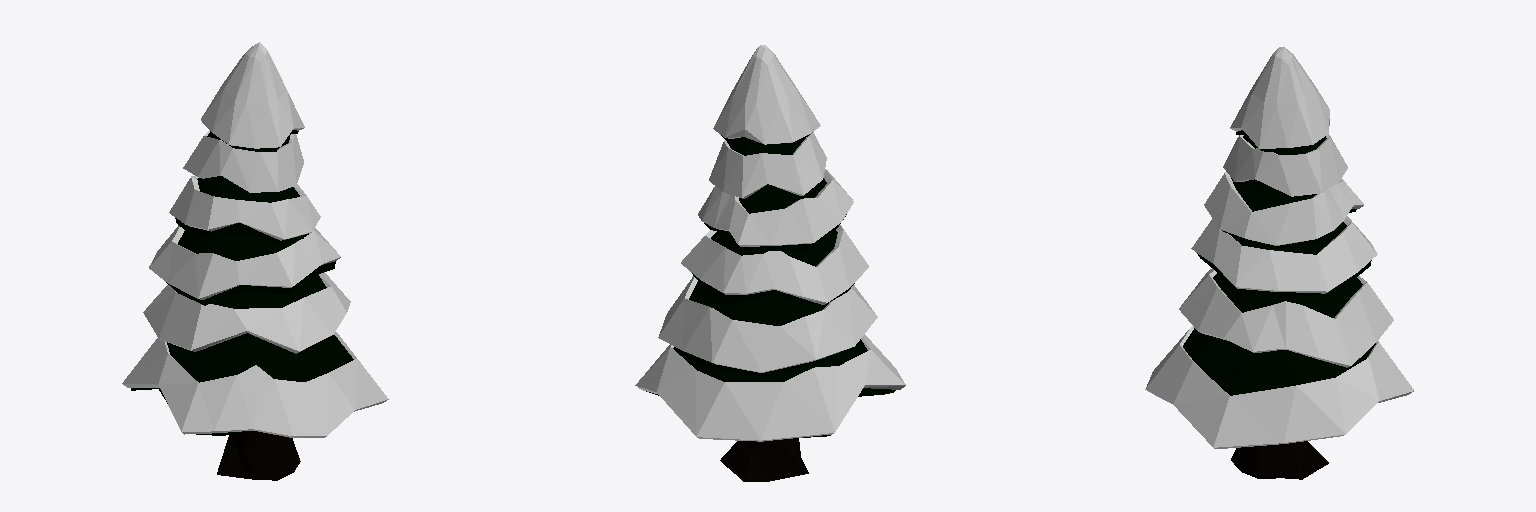
The model's file is pine_tree_1_snow.obj.
3 renders of one model, left to right at view 1: azimuth 30°, elevation 25°; view 2: azimuth 150°, elevation 25°; view 3: azimuth 270°, elevation 25°, orthographic.
Parts seen in each view (by area): view 1: pine_tree_1_snow_snow, pine_tree_1_snow; view 2: pine_tree_1_snow_snow, pine_tree_1_snow; view 3: pine_tree_1_snow_snow, pine_tree_1_snow.
Boxes of the visible parts, x1=… form: pine_tree_1_snow_snow: x1=122, y1=42, x2=388, y2=437; pine_tree_1_snow: x1=131, y1=130, x2=353, y2=480; pine_tree_1_snow_snow: x1=635, y1=45, x2=905, y2=441; pine_tree_1_snow: x1=646, y1=134, x2=895, y2=481; pine_tree_1_snow_snow: x1=1145, y1=47, x2=1413, y2=448; pine_tree_1_snow: x1=1183, y1=130, x2=1375, y2=479.
Size of the model in its own units: 2.92 by 5.53 by 3.2.